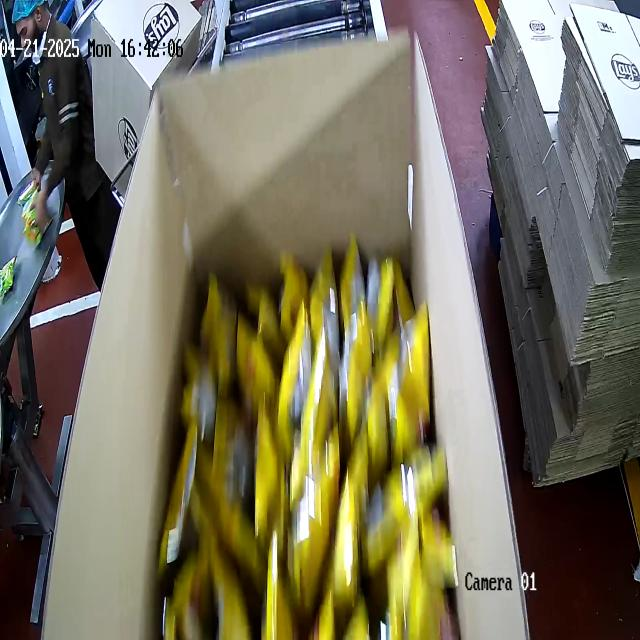SALTED: (182, 259, 461, 640)
